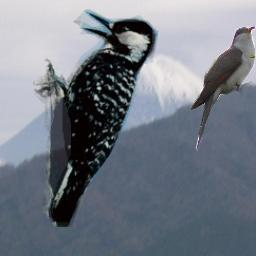Cuckoo: (190, 26, 256, 152)
Woodpecker: (33, 9, 161, 227)
